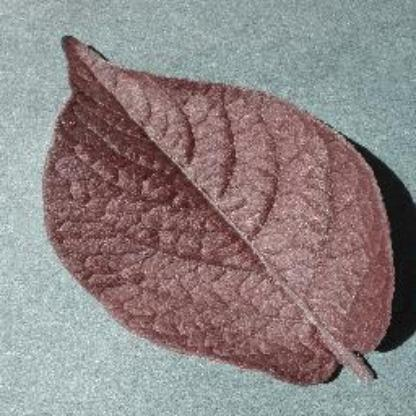Healthy-plant: (44, 34, 392, 388)
